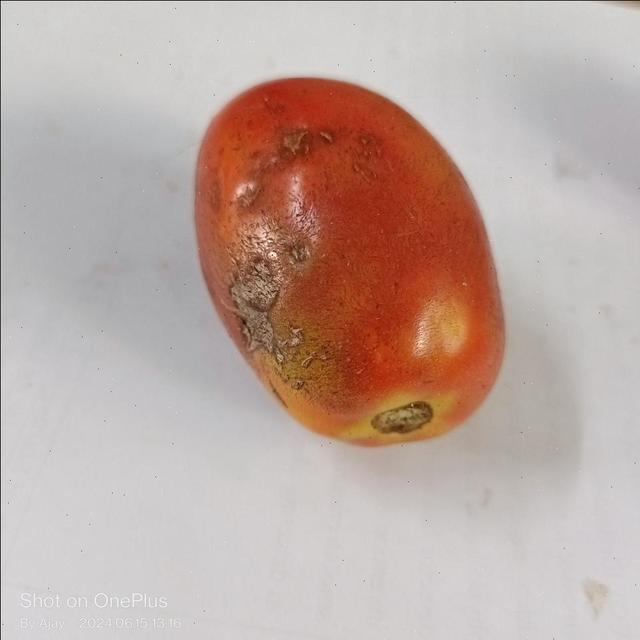Bacterial Spot Fruit: (152, 147, 201, 232)
